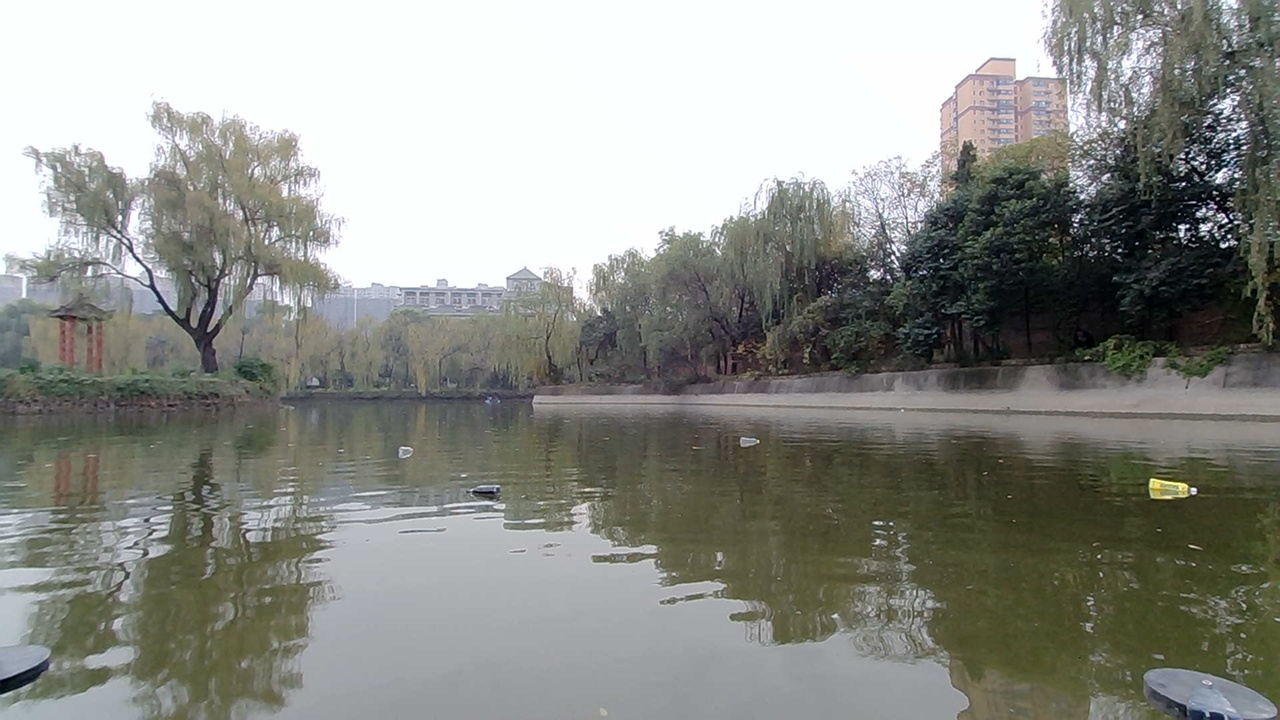bottle: (383, 434, 443, 471), (467, 476, 520, 512), (1146, 472, 1190, 506), (726, 422, 771, 454)
